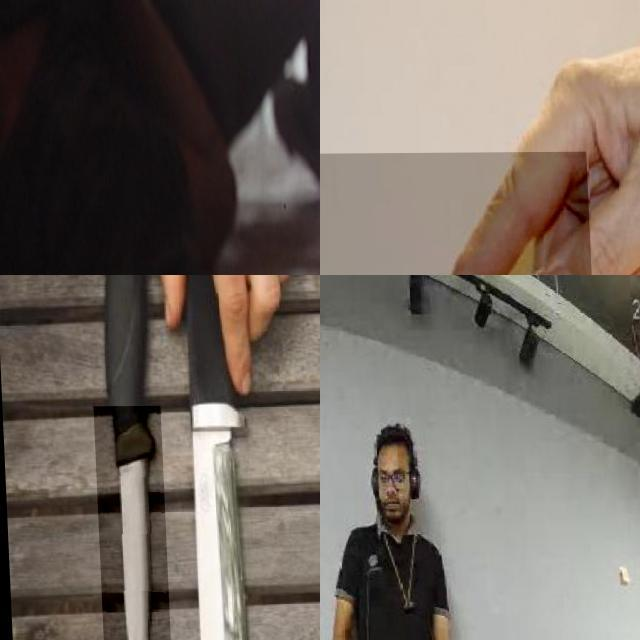-: (157, 284, 303, 640), (320, 152, 598, 275), (91, 405, 169, 640)
